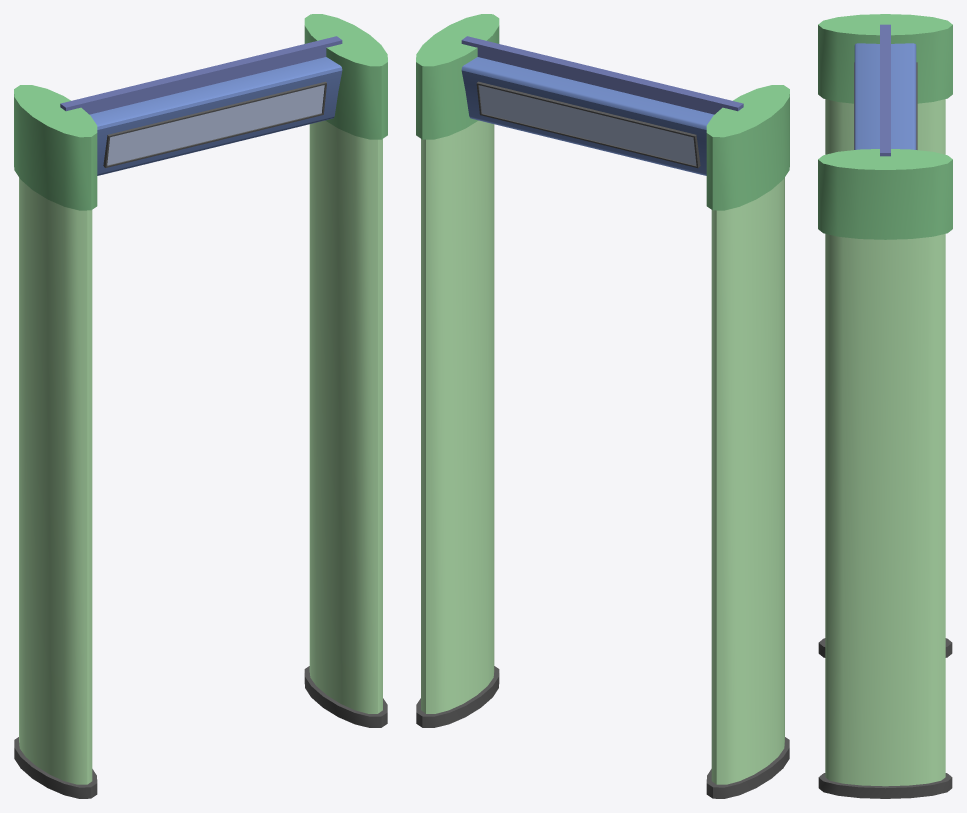
File: Metal Detector Poort.fbx
3 renders of one model, left to right at view 1: azimuth 30°, elevation 25°; view 2: azimuth 150°, elevation 25°; view 3: azimuth 270°, elevation 25°, orthographic. The views are drawn at different scales.
Parts seen in each view (by area): view 1: Metal Detector Poort; view 2: Metal Detector Poort; view 3: Metal Detector Poort.
Part boxes in pixels (left/top/right/bottom): Metal Detector Poort: left=14, top=14, right=387, bottom=798; Metal Detector Poort: left=416, top=14, right=789, bottom=798; Metal Detector Poort: left=818, top=14, right=952, bottom=798.
Bounding box in the file's own units: 114 × 215 × 41.6.
